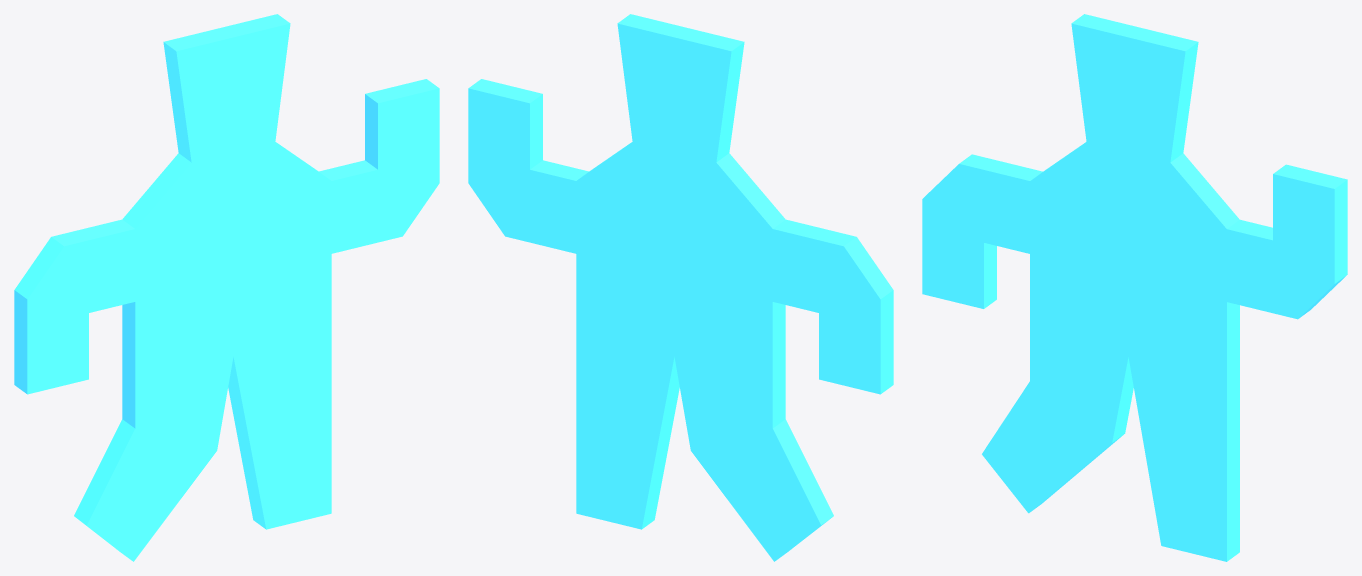
Rendered from scifi-scifi-sign-pedestrian-go.glb.
The picture shows the model from 3 angles, left to right: view 1: azimuth 30°, elevation 25°; view 2: azimuth 150°, elevation 25°; view 3: azimuth 330°, elevation 25°; orthographic projection.
Parts seen in each view (by area): view 1: scifi-sign-pedestrian-go; view 2: scifi-sign-pedestrian-go; view 3: scifi-sign-pedestrian-go.
Part boxes in pixels (x1,y1,x2,y2): scifi-sign-pedestrian-go: (14,14,439,561); scifi-sign-pedestrian-go: (468,14,893,561); scifi-sign-pedestrian-go: (922,14,1347,561).
Size of the model in its own units: 0.5496 by 0.6374 by 0.03.
